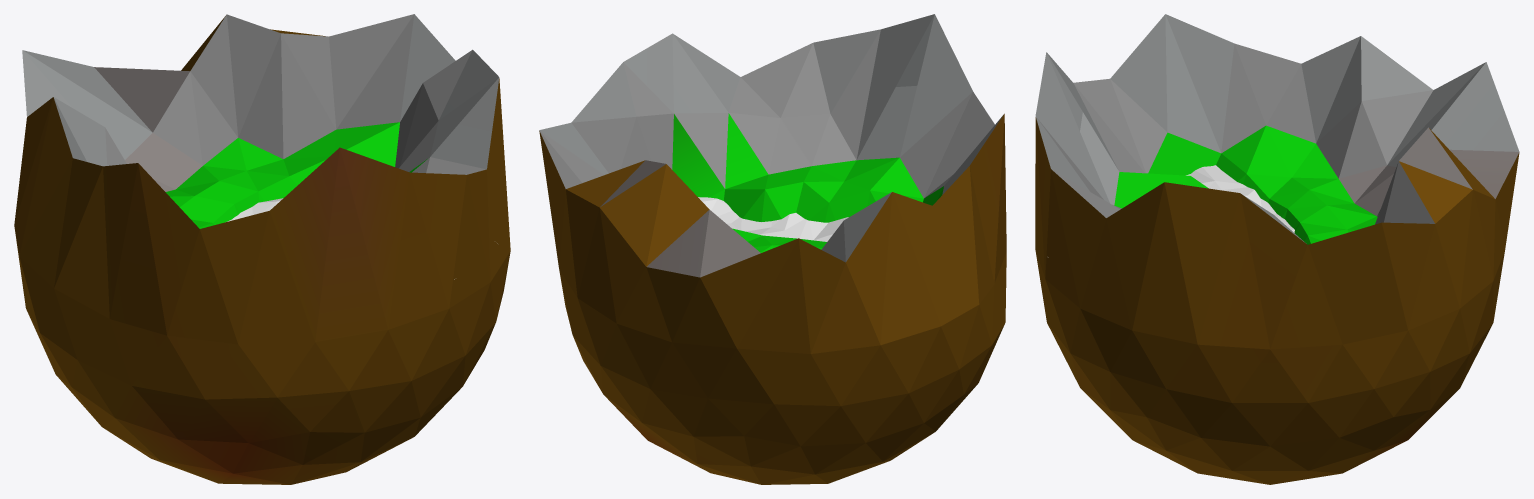
Rendered from prototypefirstscene.fbx.
3 views of the same model, side by side, from view 1: azimuth 30°, elevation 25°; view 2: azimuth 150°, elevation 25°; view 3: azimuth 270°, elevation 25° (orthographic). The views are drawn at different scales.
Visible parts, largest first — view 1: Plane, Plane.001, Plane.002, Plane.003; view 2: Plane, Plane.001, Plane.002, Plane.004, Plane.003; view 3: Plane, Plane.001, Plane.002, Plane.003, Plane.004.
Boxes of the visible parts, <box> form: Plane: <box>14,14,510,484</box>; Plane.001: <box>105,14,486,174</box>; Plane.002: <box>165,122,427,228</box>; Plane.003: <box>125,133,202,191</box>; Plane: <box>539,14,1006,484</box>; Plane.001: <box>539,30,994,262</box>; Plane.002: <box>672,113,943,252</box>; Plane.004: <box>698,197,848,241</box>; Plane.003: <box>857,86,916,160</box>; Plane: <box>1035,14,1519,484</box>; Plane.001: <box>1036,43,1434,224</box>; Plane.002: <box>1114,125,1377,244</box>; Plane.003: <box>1080,112,1396,215</box>; Plane.004: <box>1186,165,1294,232</box>.
Bounding box in the file's own units: 9871 × 9207 × 10312.
